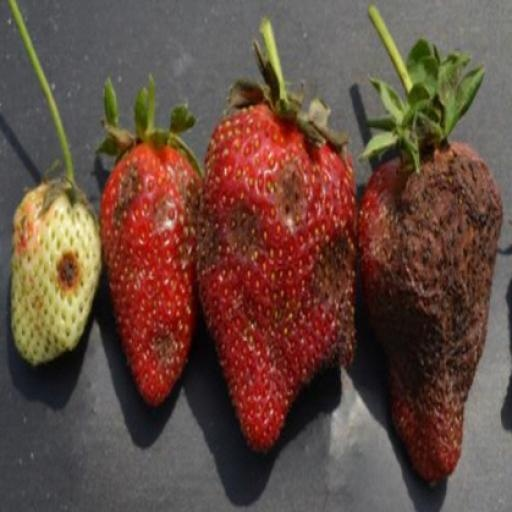Anthracnose Fruit Rot: (359, 149, 505, 457), (200, 153, 357, 374), (109, 159, 203, 369), (53, 249, 85, 296)
